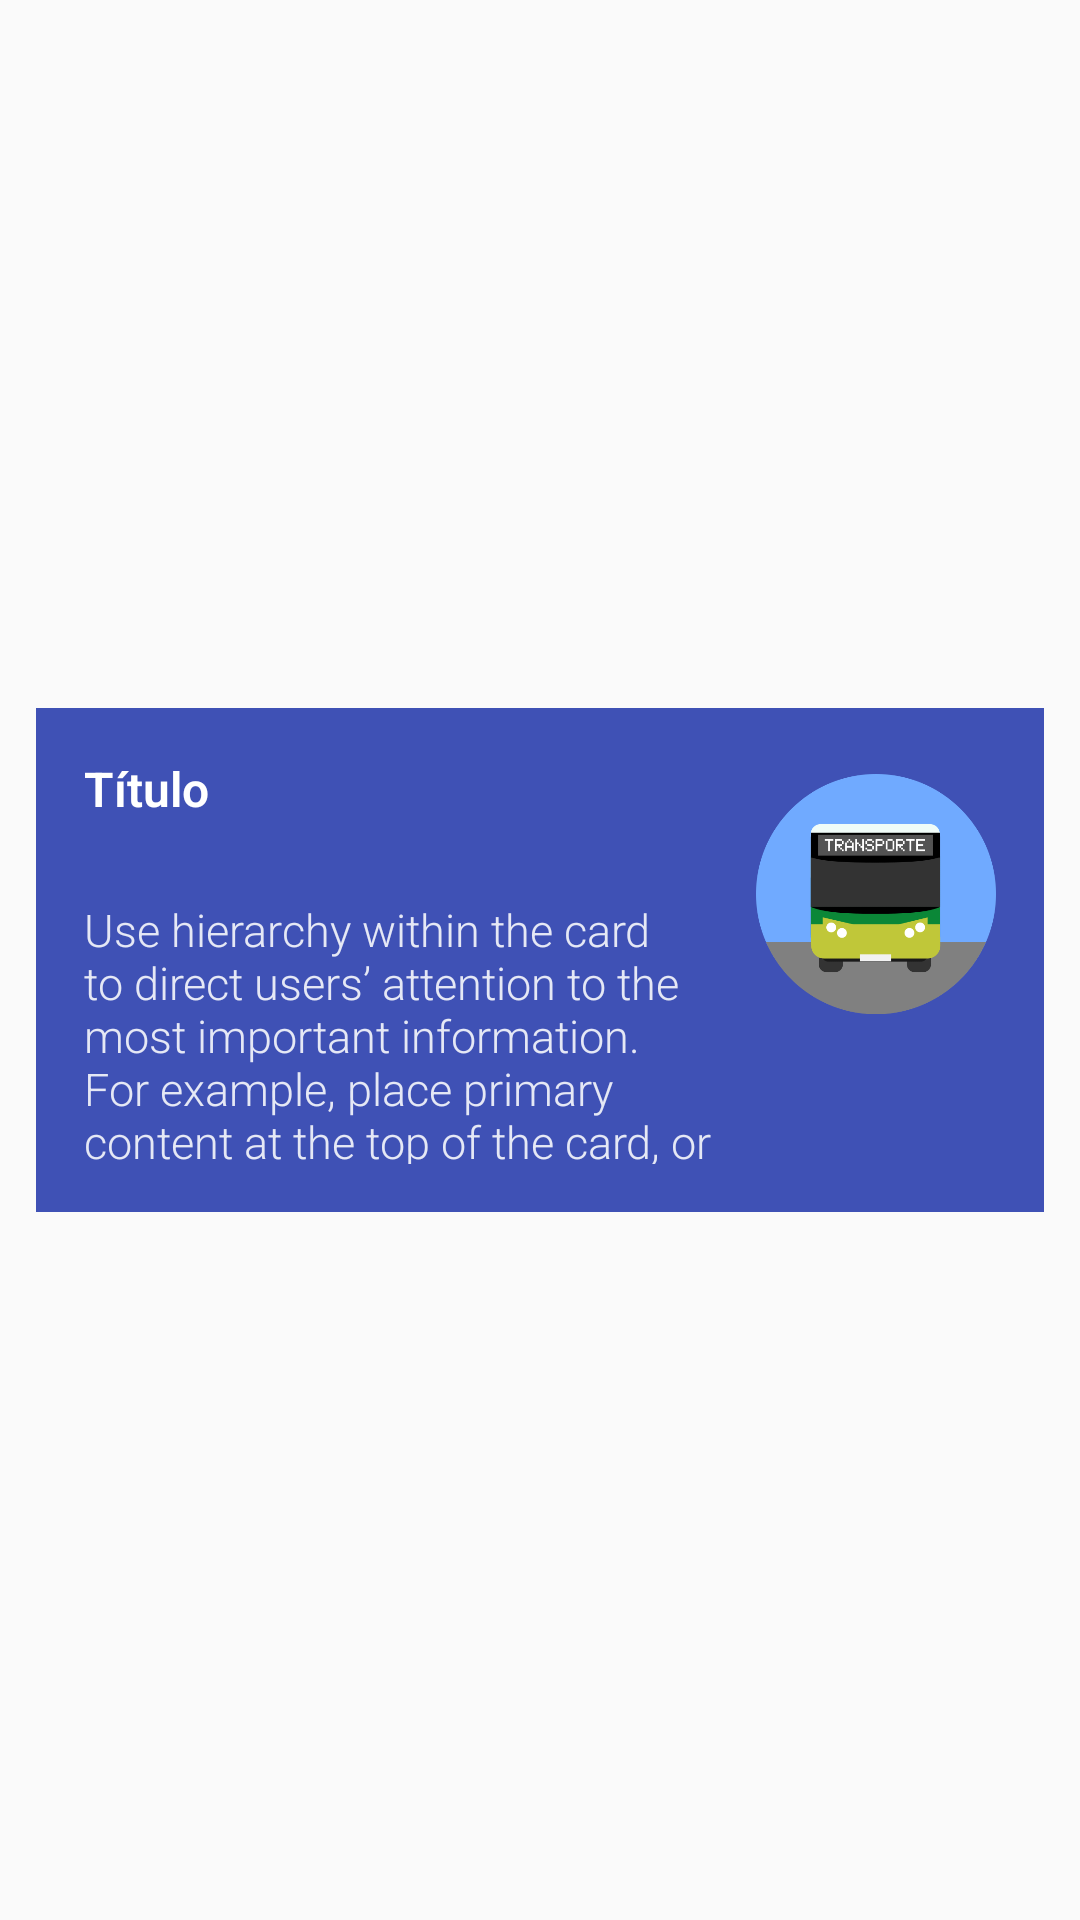

Where icons sit on this 1080px x 1920px app screen, as (x1, y1, x2, y2):
parada: (756, 774, 996, 1014)
